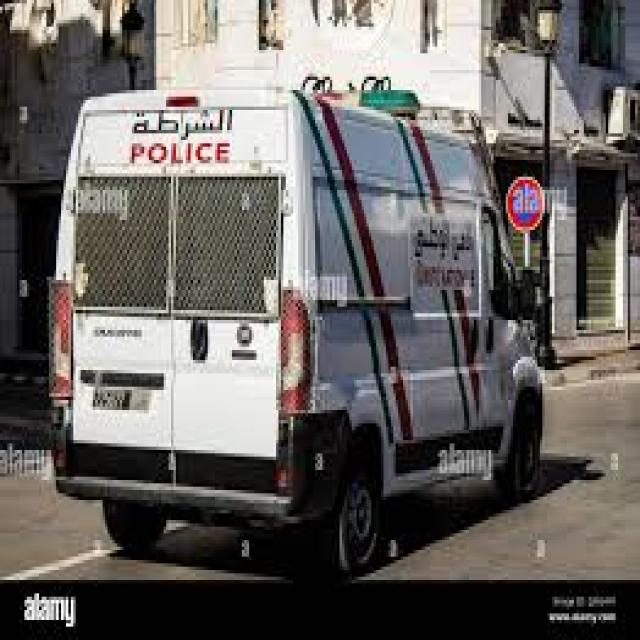Police car: (42, 74, 556, 582)
